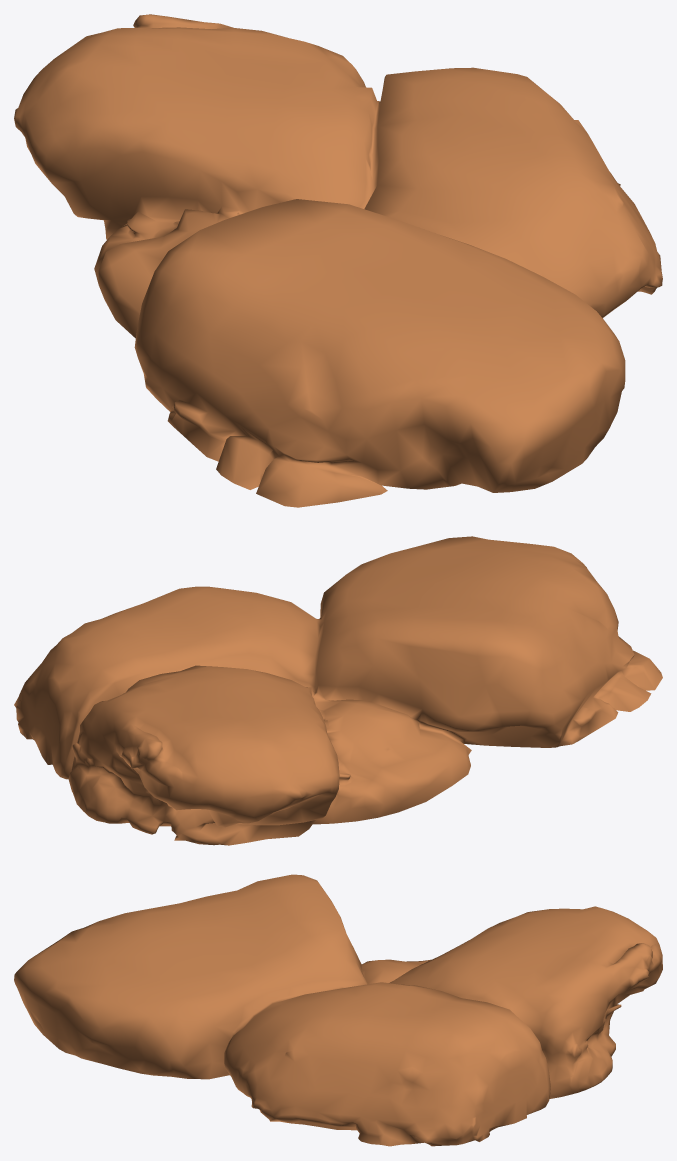
Rendered from MSH_Rocks_Boulder_21.FBX.
3 renders of one model, top to bottom at view 1: azimuth 30°, elevation 25°; view 2: azimuth 150°, elevation 25°; view 3: azimuth 270°, elevation 25°, orthographic. The views are drawn at different scales.
Visible parts, largest first — view 1: MESH_LOD0; view 2: MESH_LOD0; view 3: MESH_LOD0.
Boxes of the visible parts, left/top/right/bottom form: MESH_LOD0: left=14, top=14, right=662, bottom=507; MESH_LOD0: left=14, top=536, right=662, bottom=845; MESH_LOD0: left=14, top=874, right=662, bottom=1146.
Size of what is drawn, in the model's own units: 173 by 42.95 by 239.
